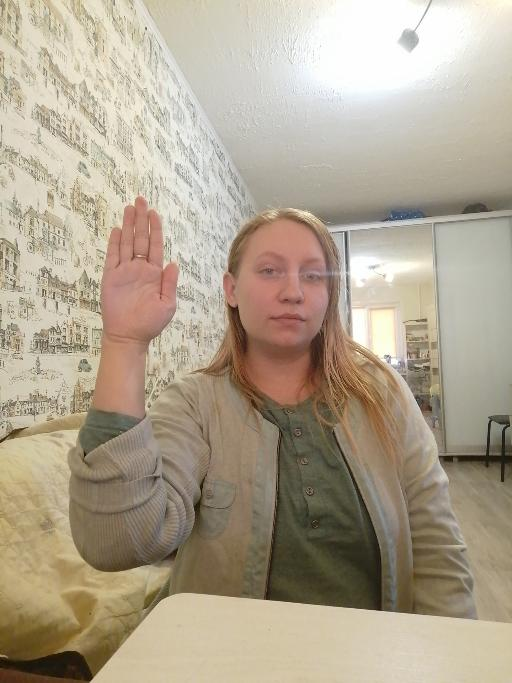stop: (94, 192, 183, 346)
